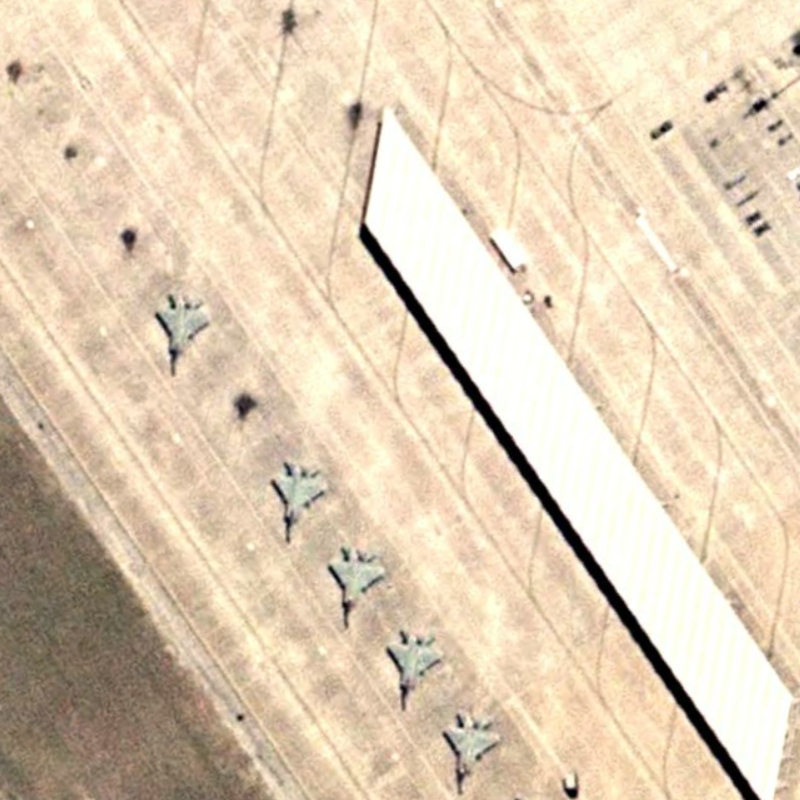A13: (436, 706, 505, 798), (263, 459, 332, 548), (149, 289, 212, 382), (325, 545, 389, 635), (382, 627, 443, 714)
